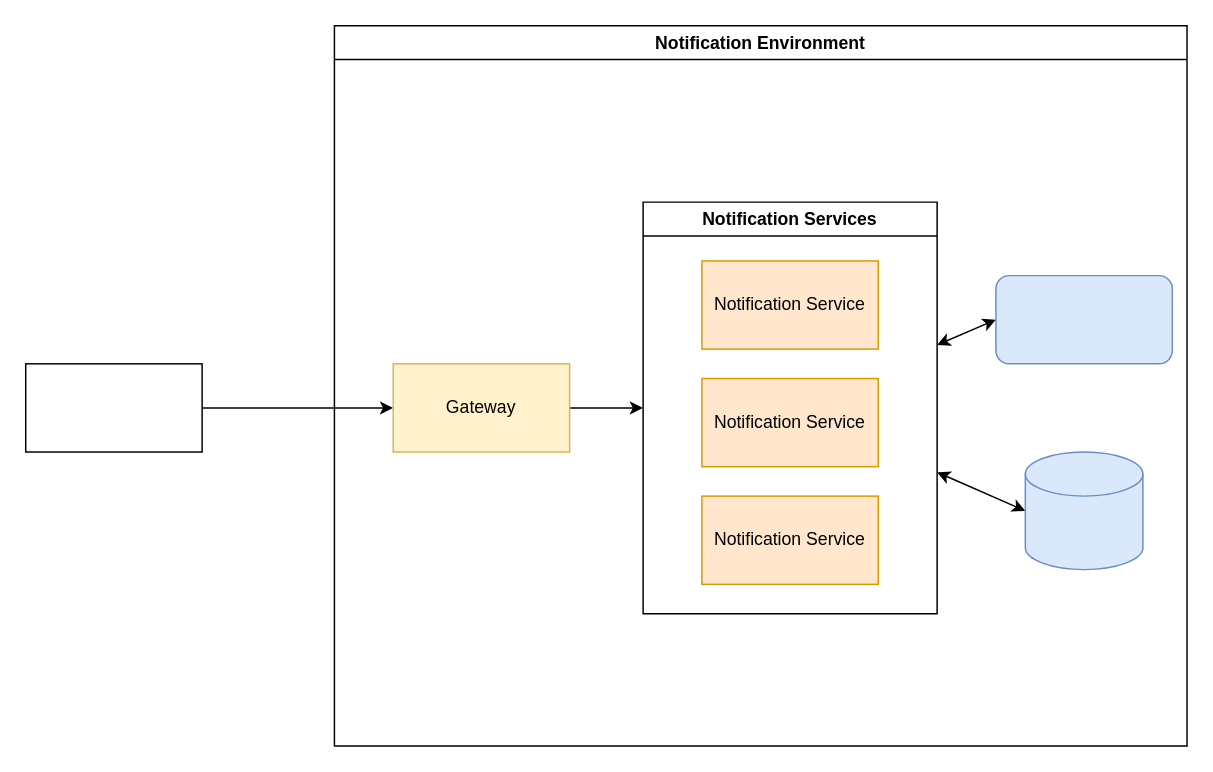
Image size: 1213x772. Some labels were removed from this diagram. Here are the shapes that lost their labels. From the top down, the centre of each, then its label:
point (1083, 319): Cache Service
point (113, 407): Client
point (1083, 510): Notification DB
